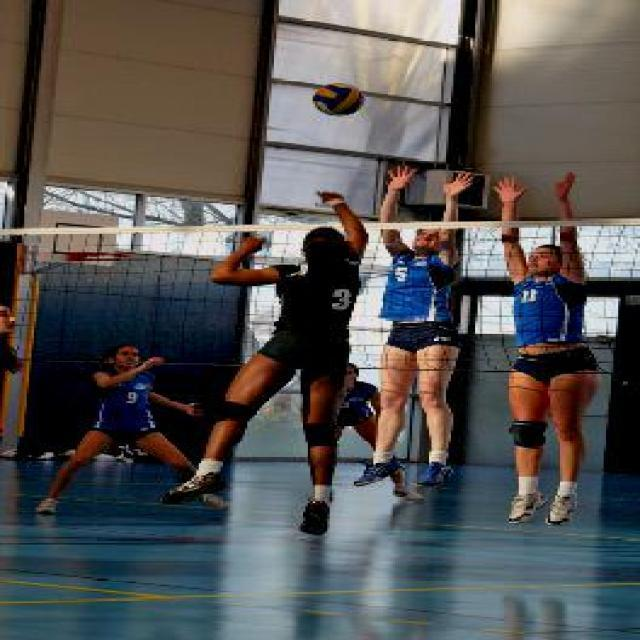volleyball: (312, 83, 363, 115)
